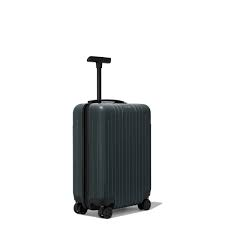suitcase: (69, 55, 155, 220)
